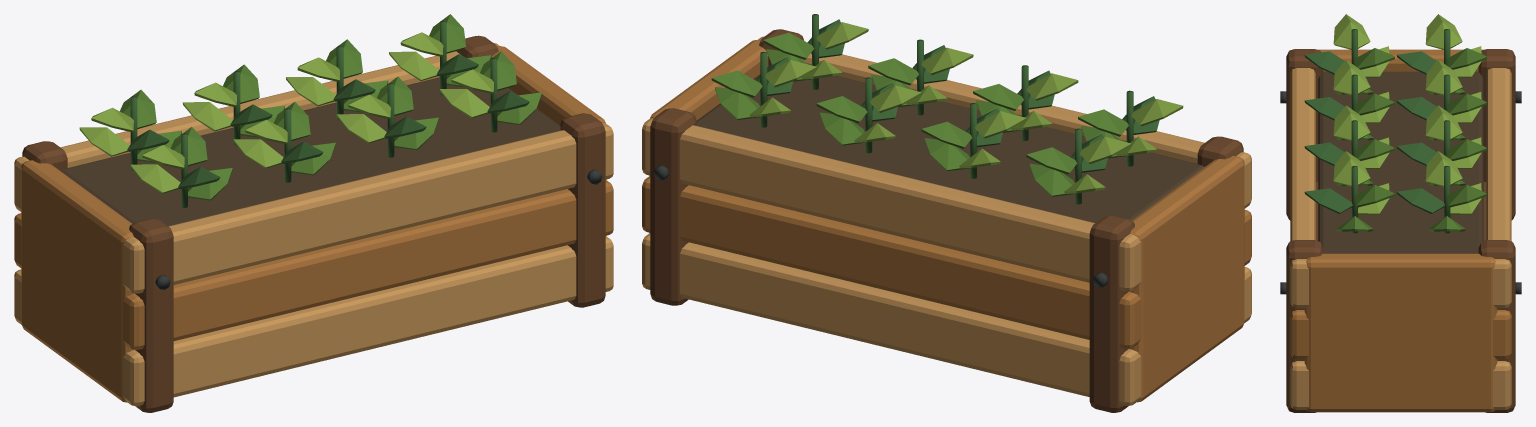
File: 23_planter_box.glb
3 views of the same model, side by side, from view 1: azimuth 30°, elevation 25°; view 2: azimuth 150°, elevation 25°; view 3: azimuth 270°, elevation 25° (orthographic). The views are drawn at different scales.
Parts seen in each view (by area): view 1: Planter plank.026, Planter plank.024, Planter plank.025, Soil.004, End plank.008, Planter post.018, Planter post.016, Planter plank.029, End plank.009, Planter post.017, Leaf.180, Leaf.185 (+35 smaller); view 2: Planter plank.029, Planter plank.028, Planter plank.027, Soil.004, End plank.008, Planter post.017, Planter post.019, Planter plank.026, End plank.009, Planter post.016, Leaf.204, Leaf.184 (+18 smaller); view 3: End plank.009, Soil.004, Planter plank.029, Planter plank.026, Planter post.017, Planter post.016, Planter post.018, Planter post.019, End plank.008, Planter plank.025, Planter plank.028, Planter plank.024 (+44 smaller).
Part boxes in pixels (bbox=[...]): Planter plank.026: bbox=[123, 123, 613, 293]; Planter plank.024: bbox=[123, 236, 613, 406]; Planter plank.025: bbox=[123, 180, 613, 349]; Soil.004: bbox=[61, 77, 560, 226]; End plank.008: bbox=[21, 160, 134, 402]; Planter post.018: bbox=[560, 113, 605, 307]; Planter post.016: bbox=[129, 218, 173, 412]; Planter plank.029: bbox=[14, 43, 499, 211]; End plank.009: bbox=[491, 46, 606, 235]; Planter post.017: bbox=[22, 141, 67, 171]; Leaf.180: bbox=[130, 164, 180, 193]; Leaf.185: bbox=[79, 127, 129, 156]; Planter plank.029: bbox=[642, 118, 1141, 291]; Planter plank.028: bbox=[642, 176, 1141, 348]; Planter plank.027: bbox=[642, 233, 1141, 405]; Soil.004: bbox=[696, 74, 1204, 222]; End plank.008: bbox=[1129, 156, 1244, 402]; Planter post.017: bbox=[1089, 215, 1134, 412]; Planter post.019: bbox=[650, 108, 696, 305]; Planter plank.026: bbox=[758, 36, 1251, 208]; End plank.009: bbox=[649, 40, 768, 232]; Planter post.016: bbox=[1197, 136, 1243, 166]; Leaf.204: bbox=[819, 112, 864, 145]; Leaf.184: bbox=[1029, 163, 1074, 196]; End plank.009: bbox=[1304, 253, 1497, 412]; Soil.004: bbox=[1318, 71, 1483, 253]; Planter plank.029: bbox=[1486, 68, 1511, 308]; Planter plank.026: bbox=[1290, 68, 1315, 308]; Planter post.017: bbox=[1478, 49, 1515, 220]; Planter post.016: bbox=[1286, 49, 1323, 220]; Planter post.018: bbox=[1286, 240, 1323, 412]; Planter post.019: bbox=[1478, 240, 1515, 412]; End plank.008: bbox=[1318, 49, 1483, 71]; Planter plank.025: bbox=[1290, 310, 1308, 359]; Planter plank.028: bbox=[1493, 310, 1511, 359]; Planter plank.024: bbox=[1290, 361, 1308, 409].
Size of the model in its own units: 1.5 by 0.7026 by 0.716.
